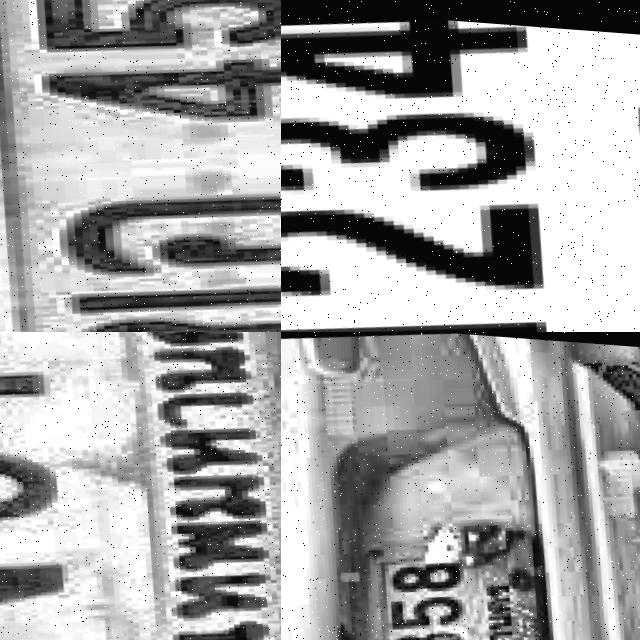license-plate: (281, 0, 640, 332), (0, 0, 281, 332), (0, 332, 281, 640), (345, 506, 578, 640)
